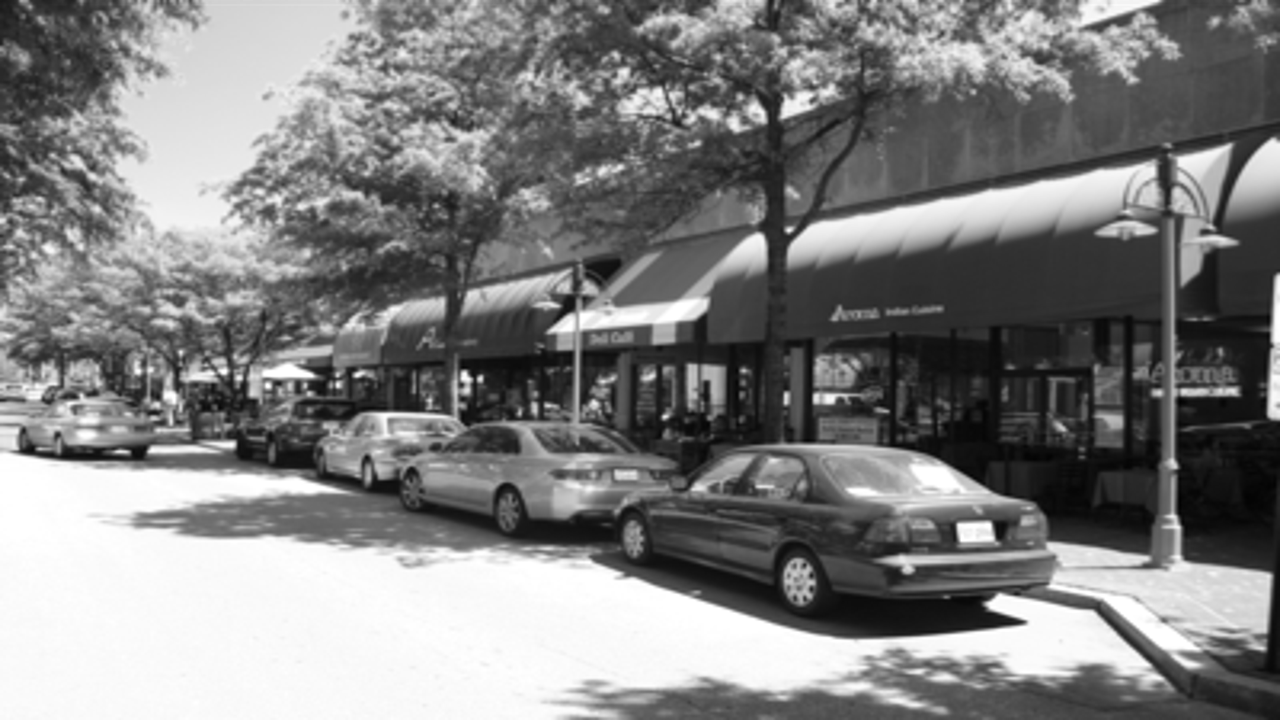license: (947, 512, 1004, 550), (606, 462, 639, 484)
